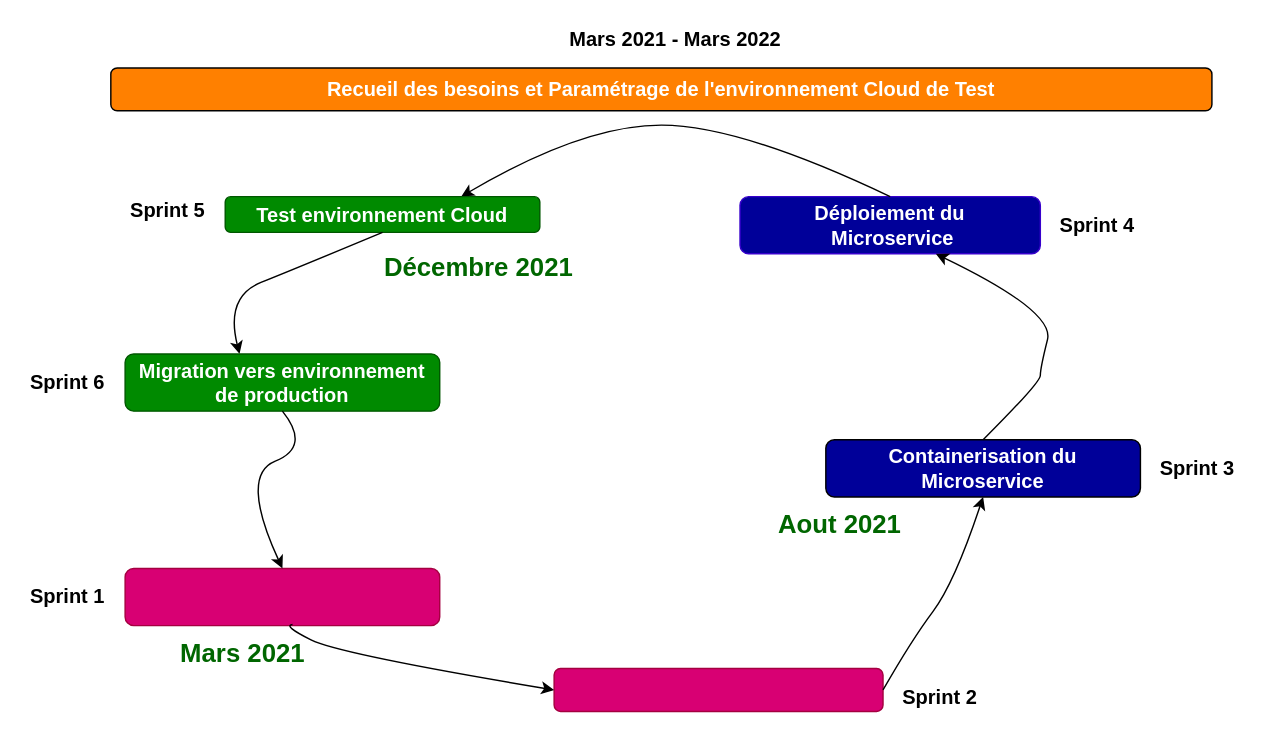
This 1264x736 diagram has some shape labels left out. Each missing label, with the centre of its shape:
Adaptation de la Passerelle API: point 718,689
Developpement d'un MicroService et Test: point 282,596
